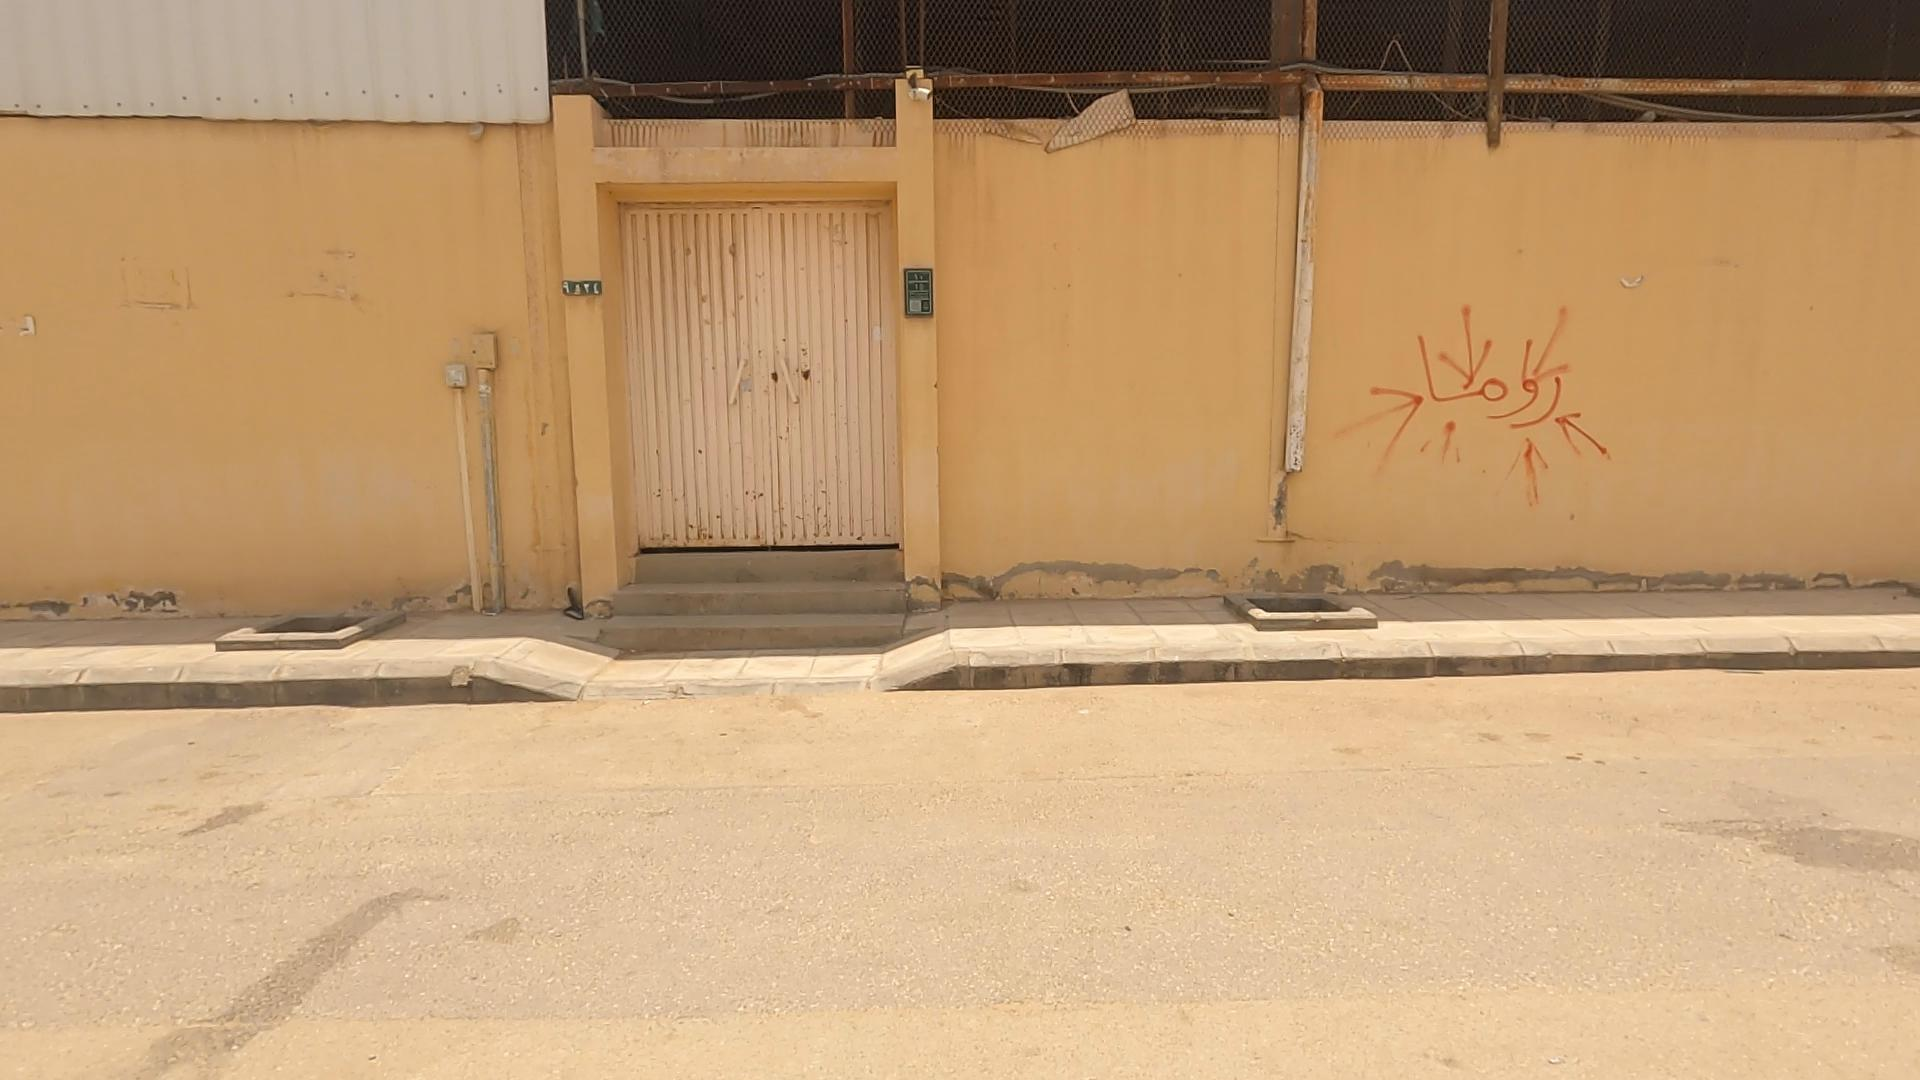GRAFFITI: (1093, 202, 1818, 611)
